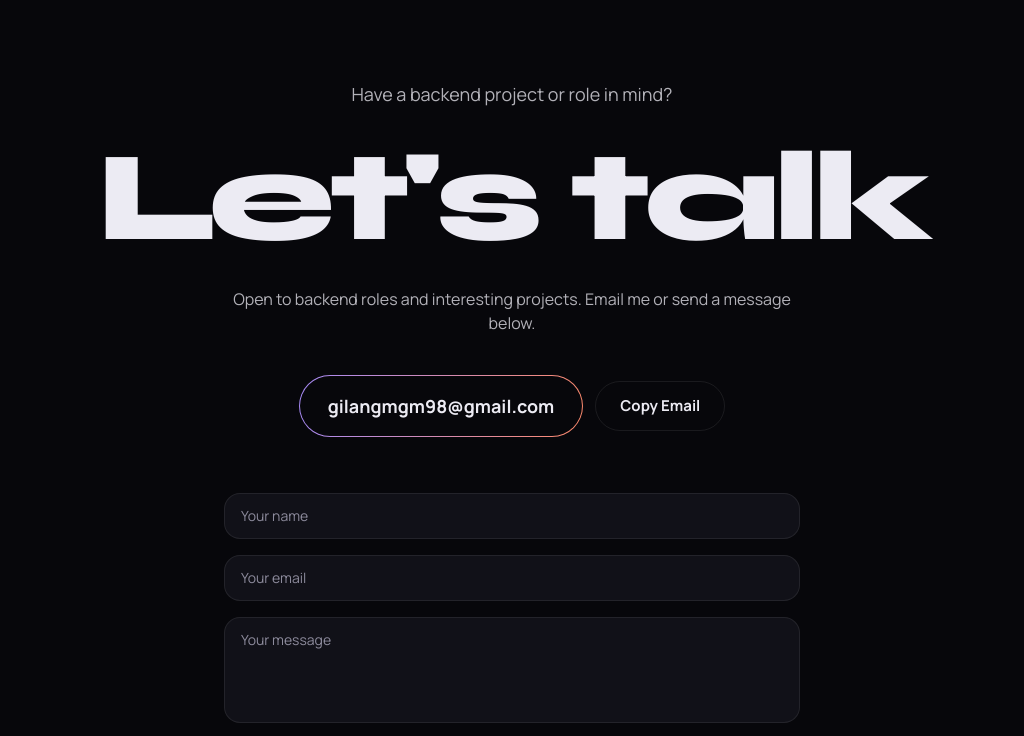
Contact submit flow › shows one status message at a time and allows resubmitting after an error
The width and height of the screenshot is (1024, 736).
Type "Ada" into the field with placeholder "Your name" at (512, 516), box [224,493,800,539]
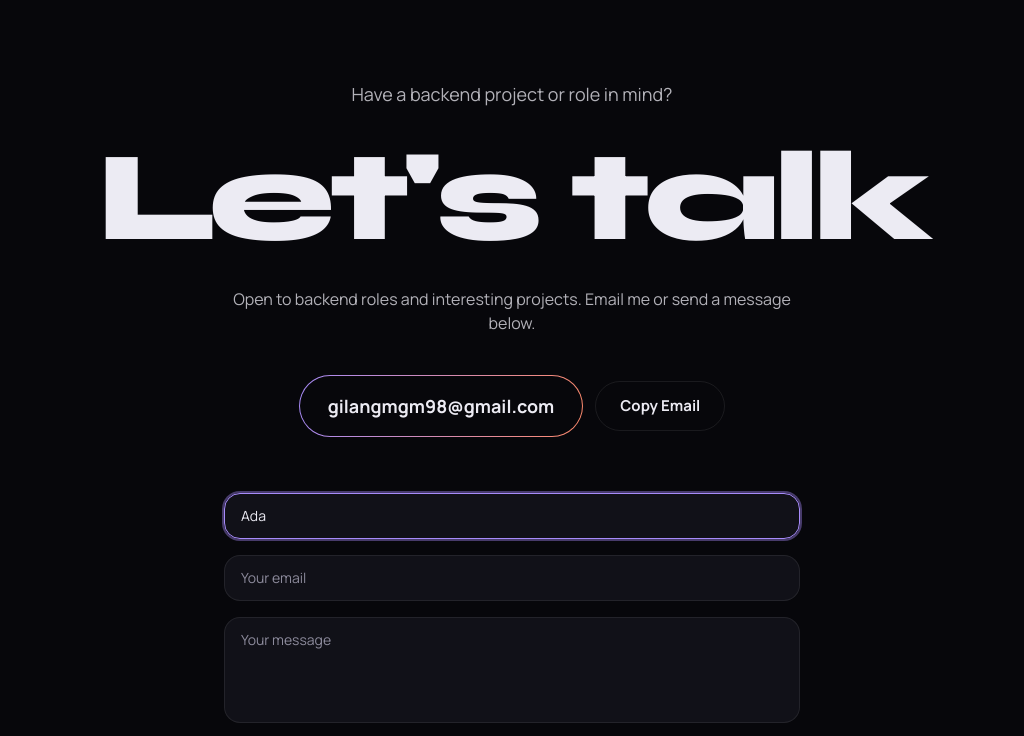
Type "ada@example.com" into the field with placeholder "Your email" at (512, 578), box [224,555,800,601]
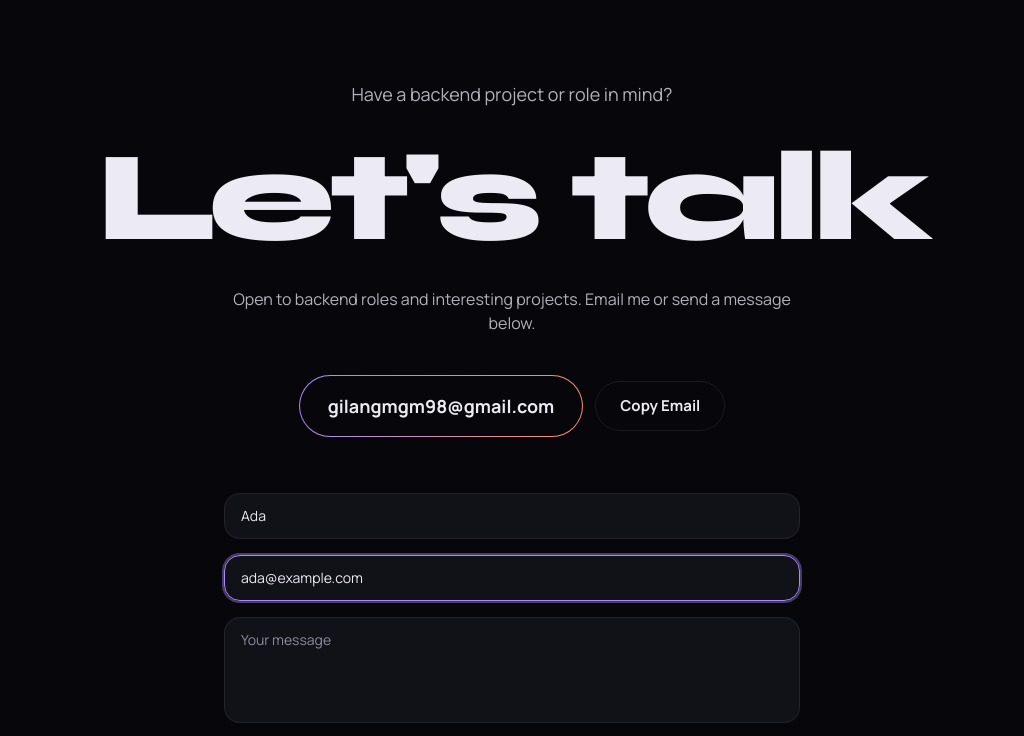
Type "Hello there" into the text box with placeholder "Your message" at (512, 670), box [224,617,800,723]
(page scrolled)
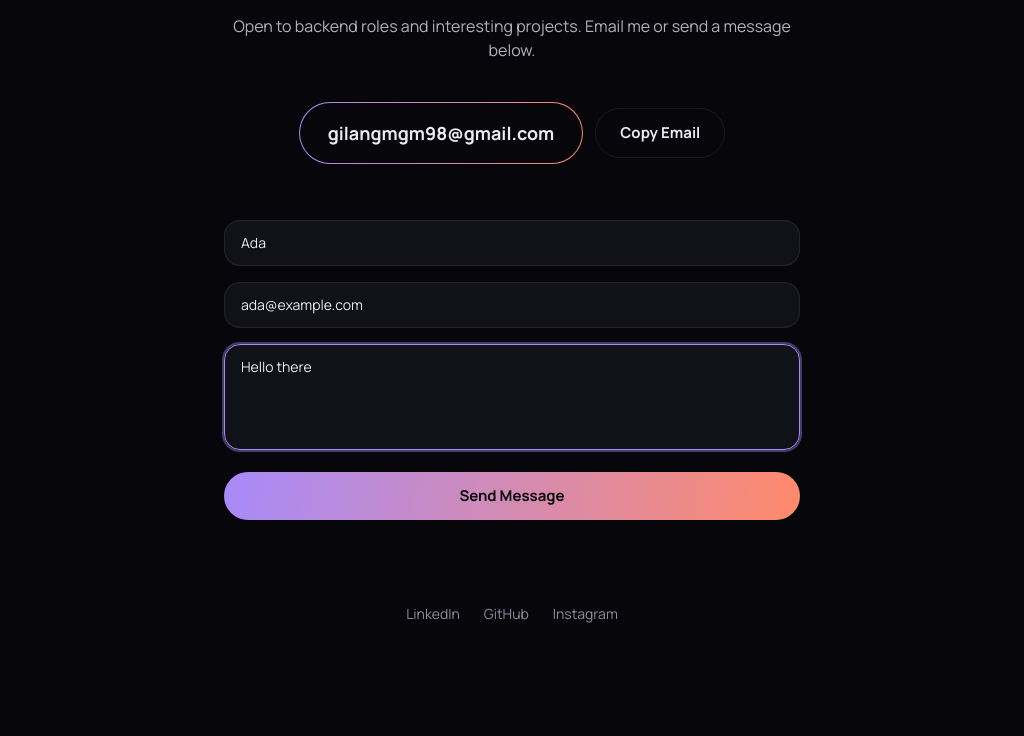
Click the button "Send Message" at (512, 496), box [224,472,800,520]
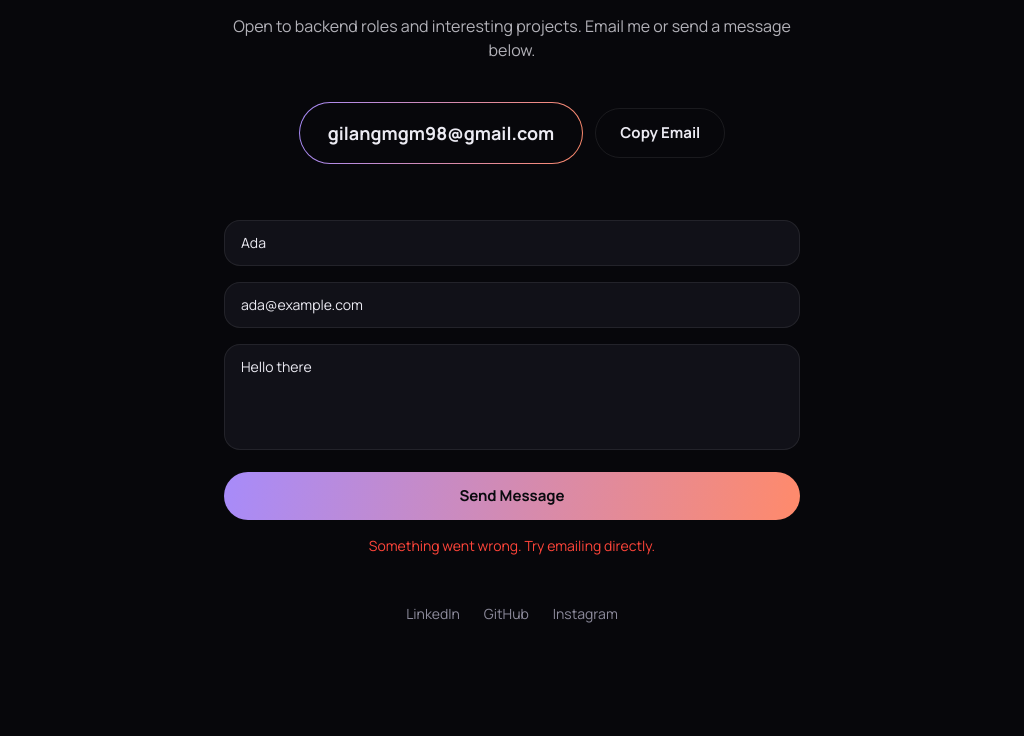
Result: the text "Something went wrong. Try emailing directly." is shown at [369,536,655,555]
Click the button "Send Message" at (512, 496), box [224,472,800,520]
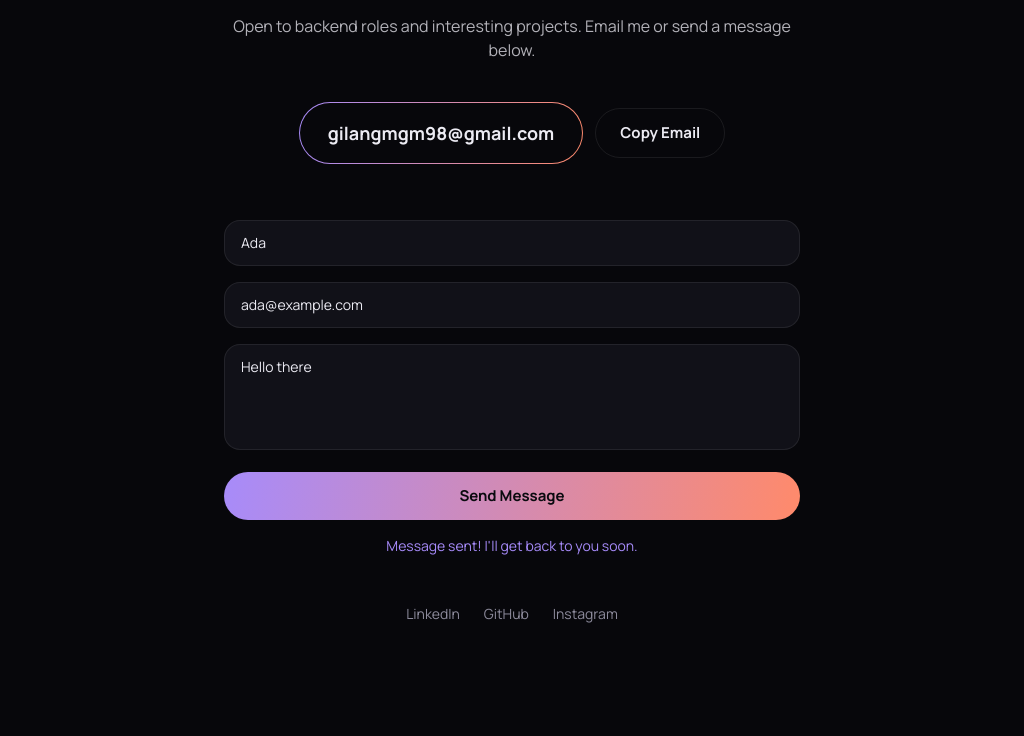
Result: the text "Message sent! I'll get back to you soon." is shown at [386,536,638,555]
Result: the text "Something went wrong" is gone
